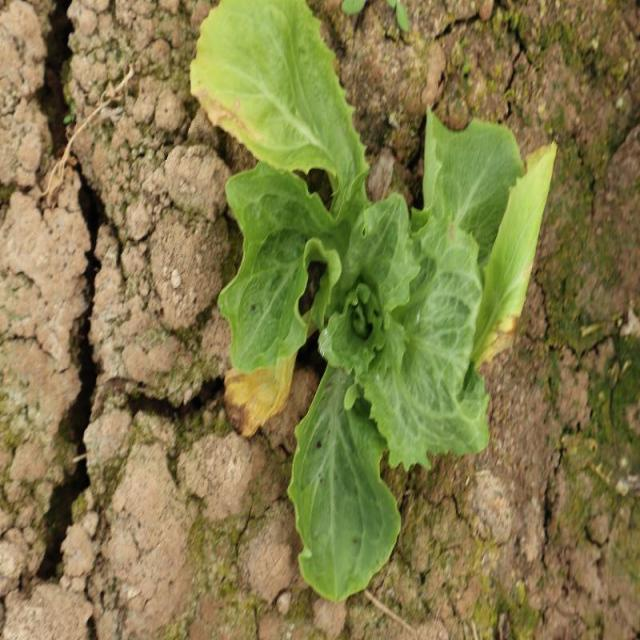crop: (188, 2, 559, 601)
